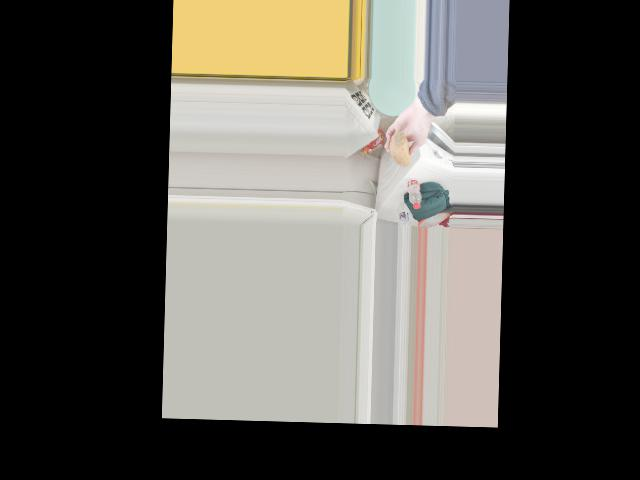sweet_potato: (390, 127, 409, 167)
